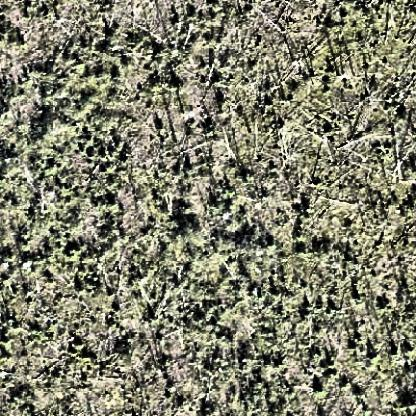tree-top: (311, 383, 329, 401), (291, 228, 309, 246), (109, 198, 124, 214), (69, 243, 84, 258), (170, 77, 184, 92)
